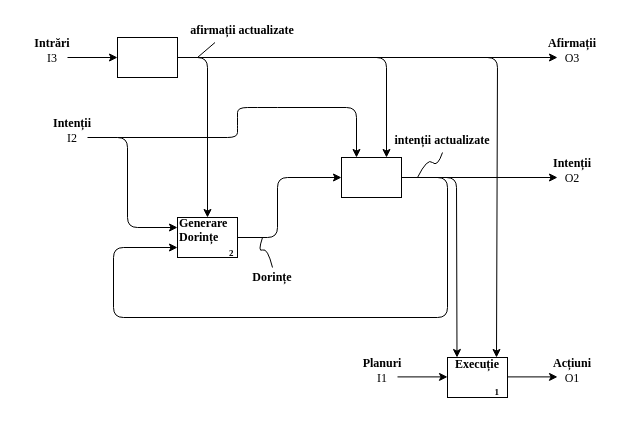
This 624x427 diagram has some shape labels left out. The shapes that lost their labels are listed below. From the top down, each one's centre as x and y in pixels, then its label:
At (147,57): "Afirmații 1".
At (371,177): "Generare Intenții 2".
